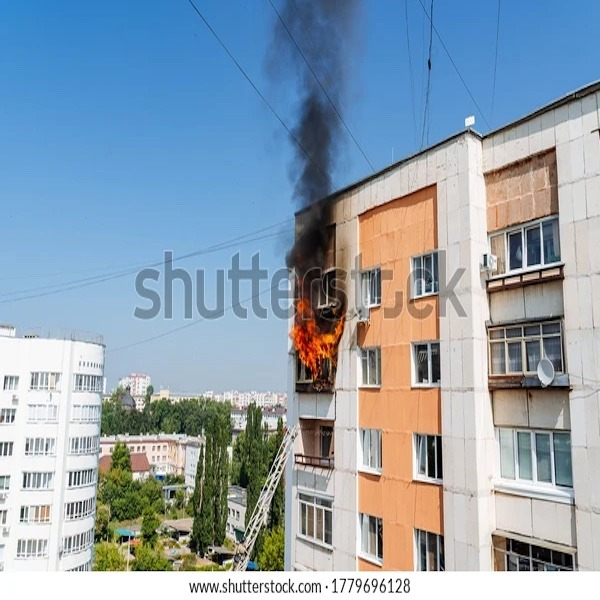fire: (289, 189, 347, 387)
